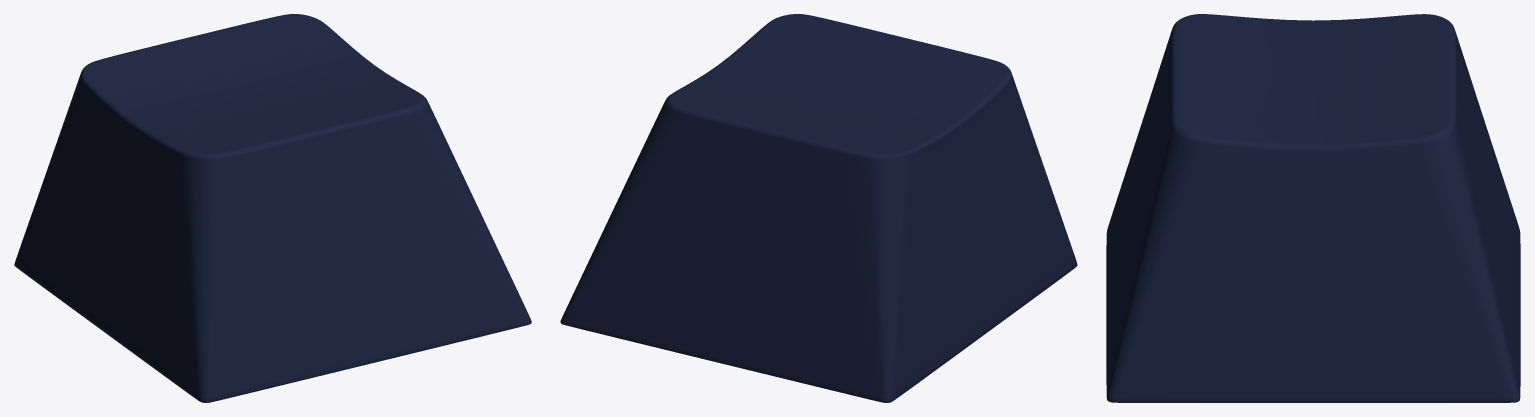
The model's file is CherryKeycap.glb.
The picture shows the model from 3 angles, left to right: view 1: azimuth 30°, elevation 25°; view 2: azimuth 150°, elevation 25°; view 3: azimuth 270°, elevation 25°; orthographic projection. The views are drawn at different scales.
Visible parts, largest first — view 1: R1_1U_Mesh; view 2: R1_1U_Mesh; view 3: R1_1U_Mesh.
Boxes of the visible parts, x1,y1,x2,y2 form: R1_1U_Mesh: [14, 14, 531, 402]; R1_1U_Mesh: [560, 14, 1077, 402]; R1_1U_Mesh: [1106, 14, 1520, 402].
Size of the model in its own units: 0.018 by 0.0111 by 0.018.
